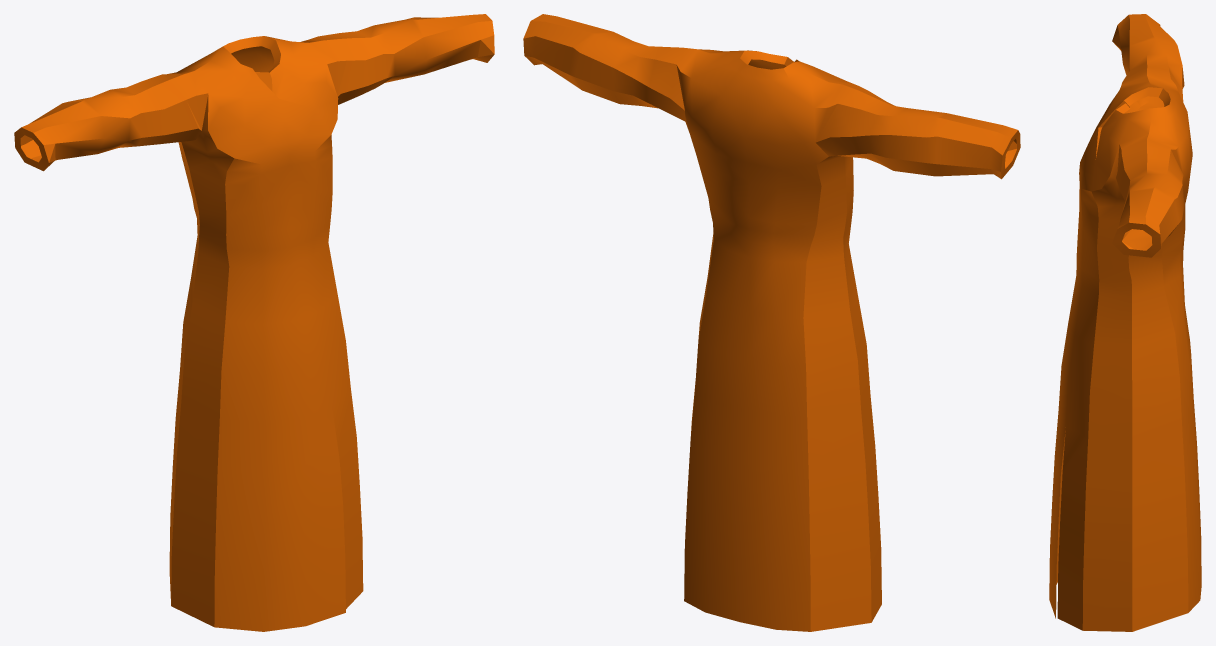
The model's file is Ryasa01.fbx.
3 views of the same model, side by side, from view 1: azimuth 30°, elevation 25°; view 2: azimuth 150°, elevation 25°; view 3: azimuth 270°, elevation 25° (orthographic). The views are drawn at different scales.
Parts seen in each view (by area): view 1: Ryasa01; view 2: Ryasa01; view 3: Ryasa01.
Part boxes in pixels (box(x1,y1,x2,y2)): Ryasa01: box(14, 14, 494, 631); Ryasa01: box(523, 14, 1020, 631); Ryasa01: box(1049, 14, 1201, 631).
Bounding box in the file's own units: 144 × 160 × 44.05.
